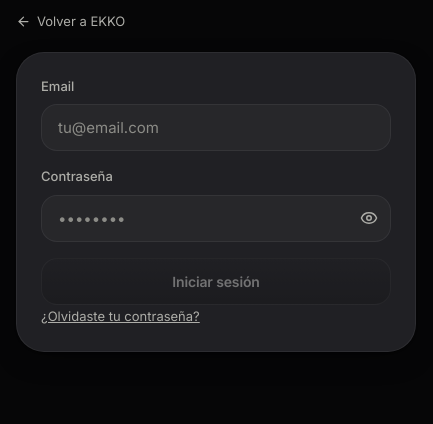
Login › miembro suspendido por el admin (sin pausa): el mensaje de cuenta suspendida
In the field labelled "Email": (216,128) [41,104,391,151], type "a@e.mx"
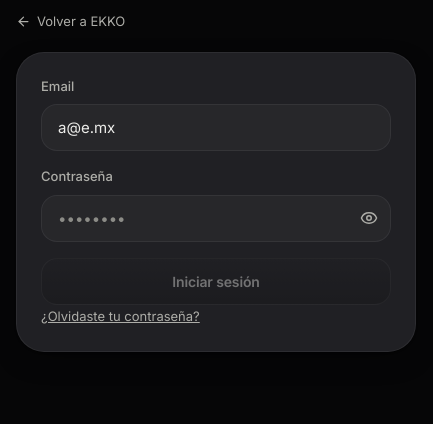
In the password field labelled "Contraseña": (216,218) [41,194,391,242], type "secreto123"
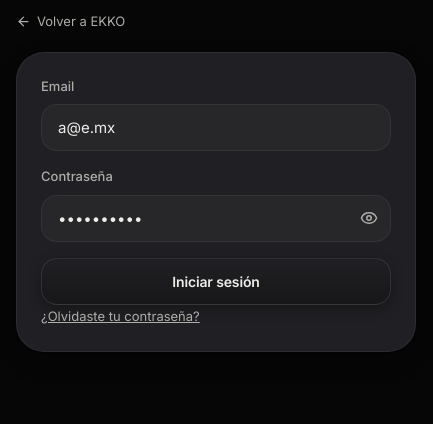
Click the button "Iniciar sesión": (216,281) [41,258,391,304]
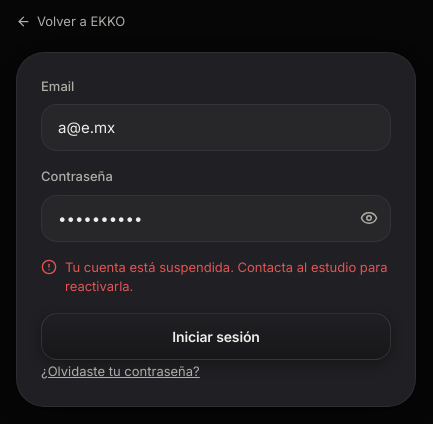
Expected: the text "Tu cuenta está suspendida" is shown, [65,258,388,294]
